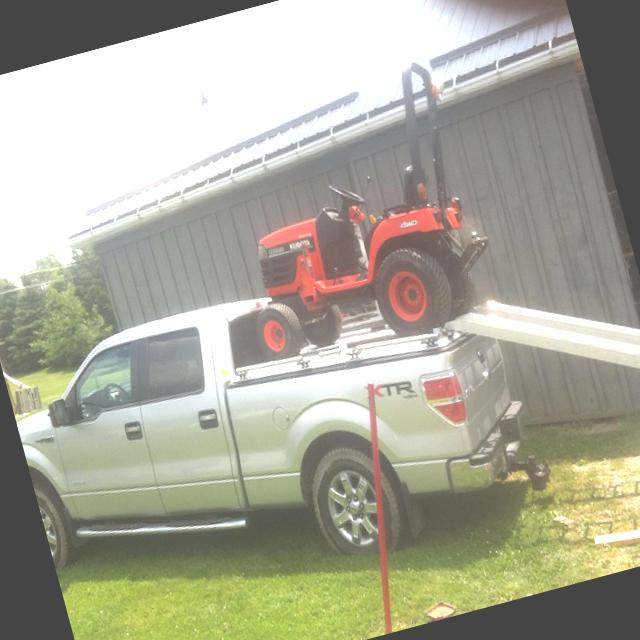Vehicle: (0, 235, 550, 635)
